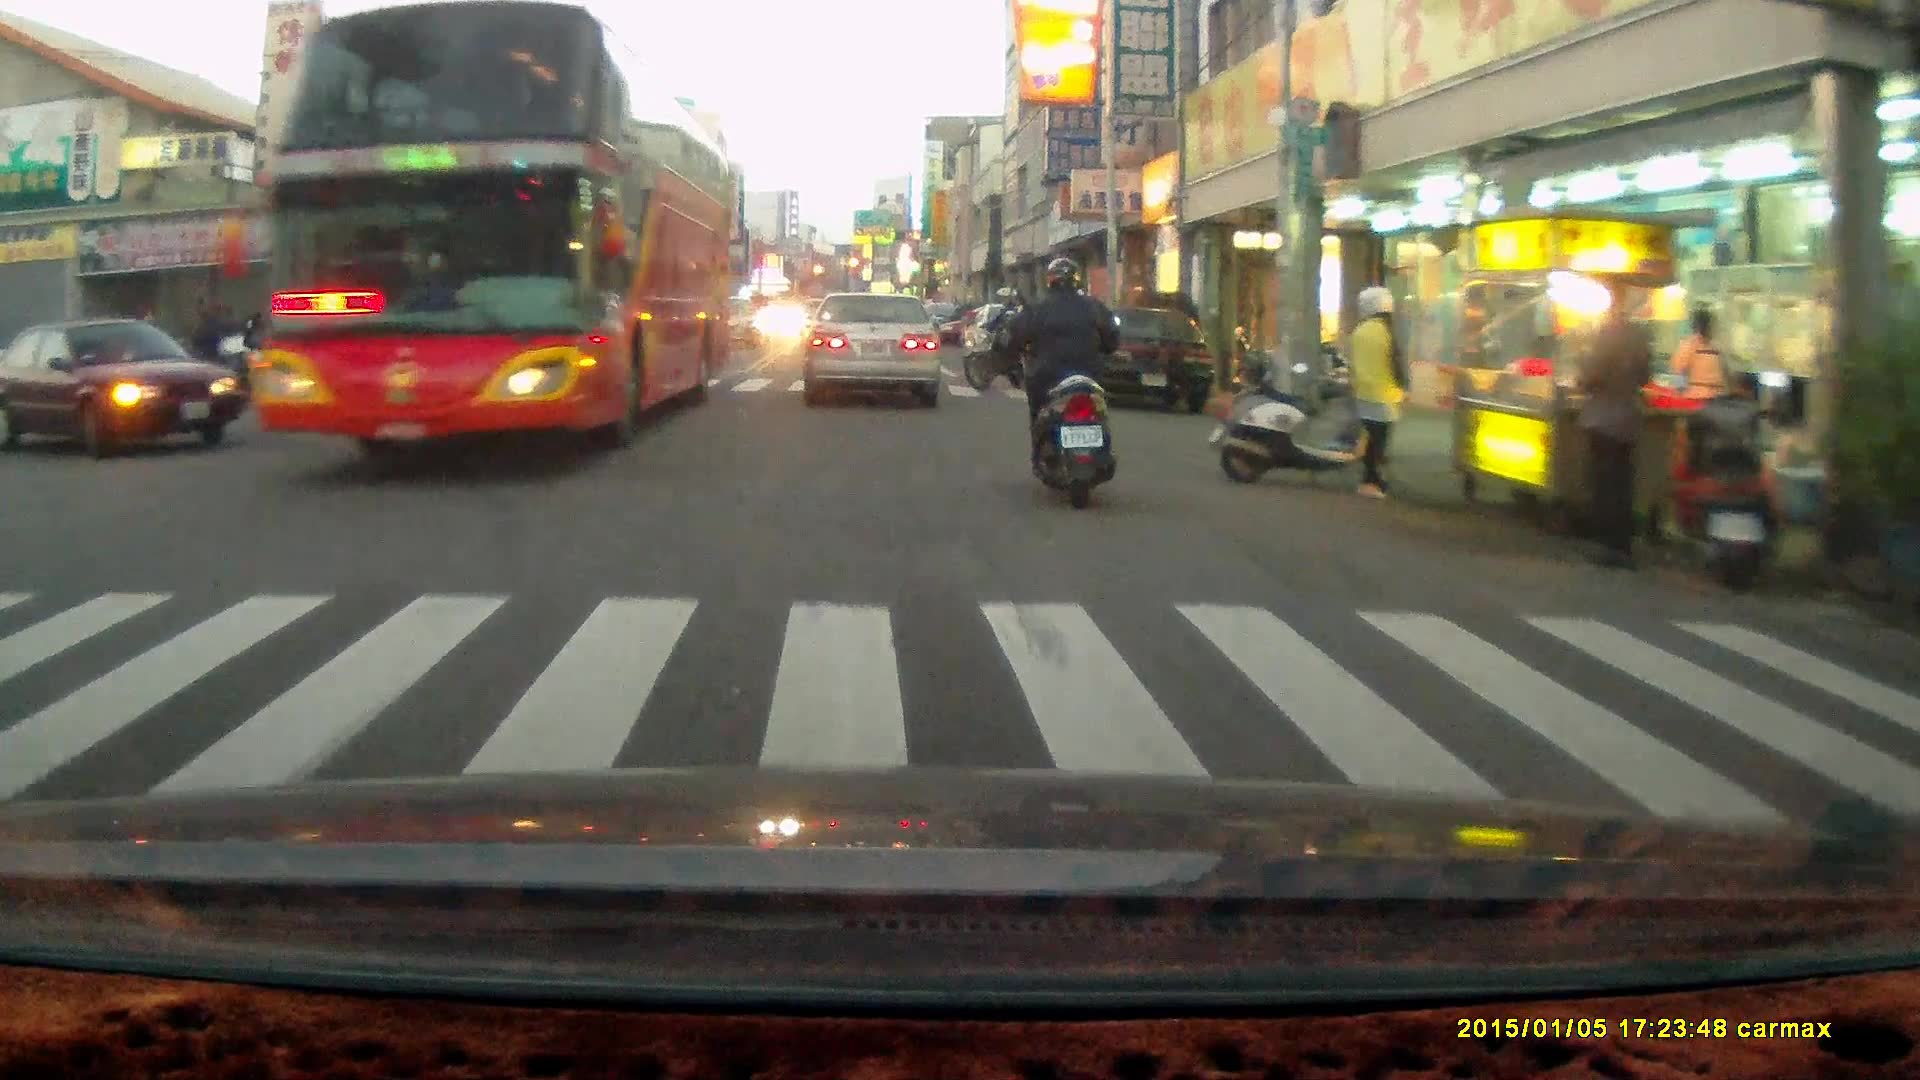pedestrian: (1570, 278, 1654, 573), (1344, 287, 1412, 504), (1670, 308, 1730, 476)
rider: (1003, 253, 1120, 507), (963, 283, 1032, 391), (176, 296, 251, 393)
vehicle: (204, 35, 731, 457), (1, 313, 240, 460), (1060, 303, 1217, 417), (802, 294, 945, 407)
